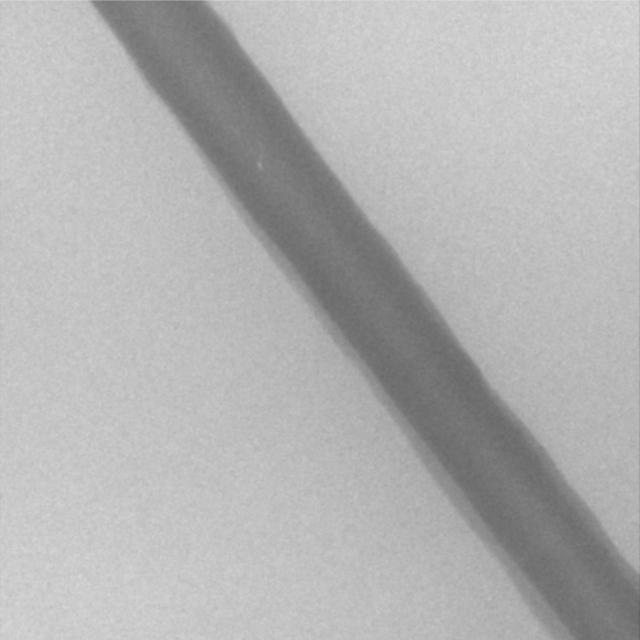air hole: (255, 161, 263, 170)
